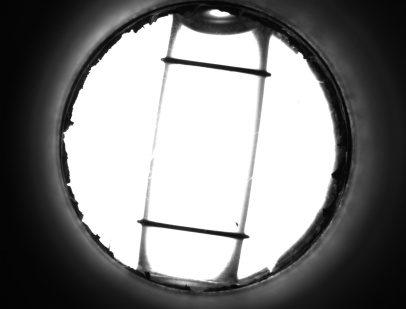line: (178, 54, 251, 78), (157, 219, 225, 240)
